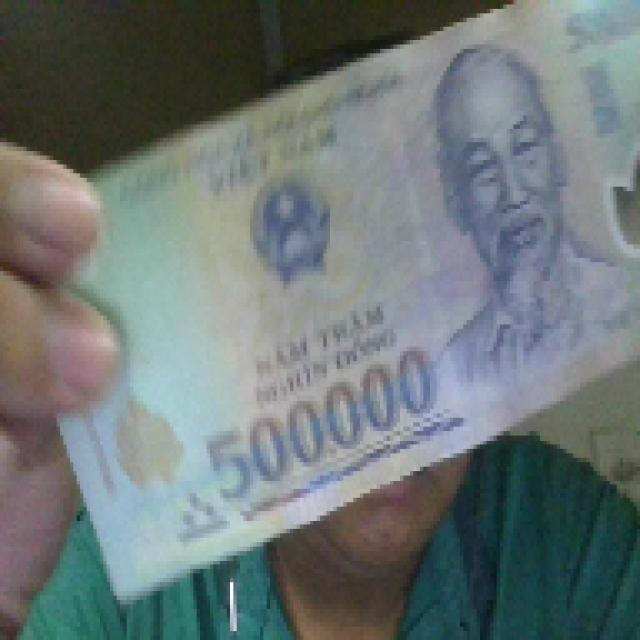500 000 VND: (47, 0, 637, 604)
